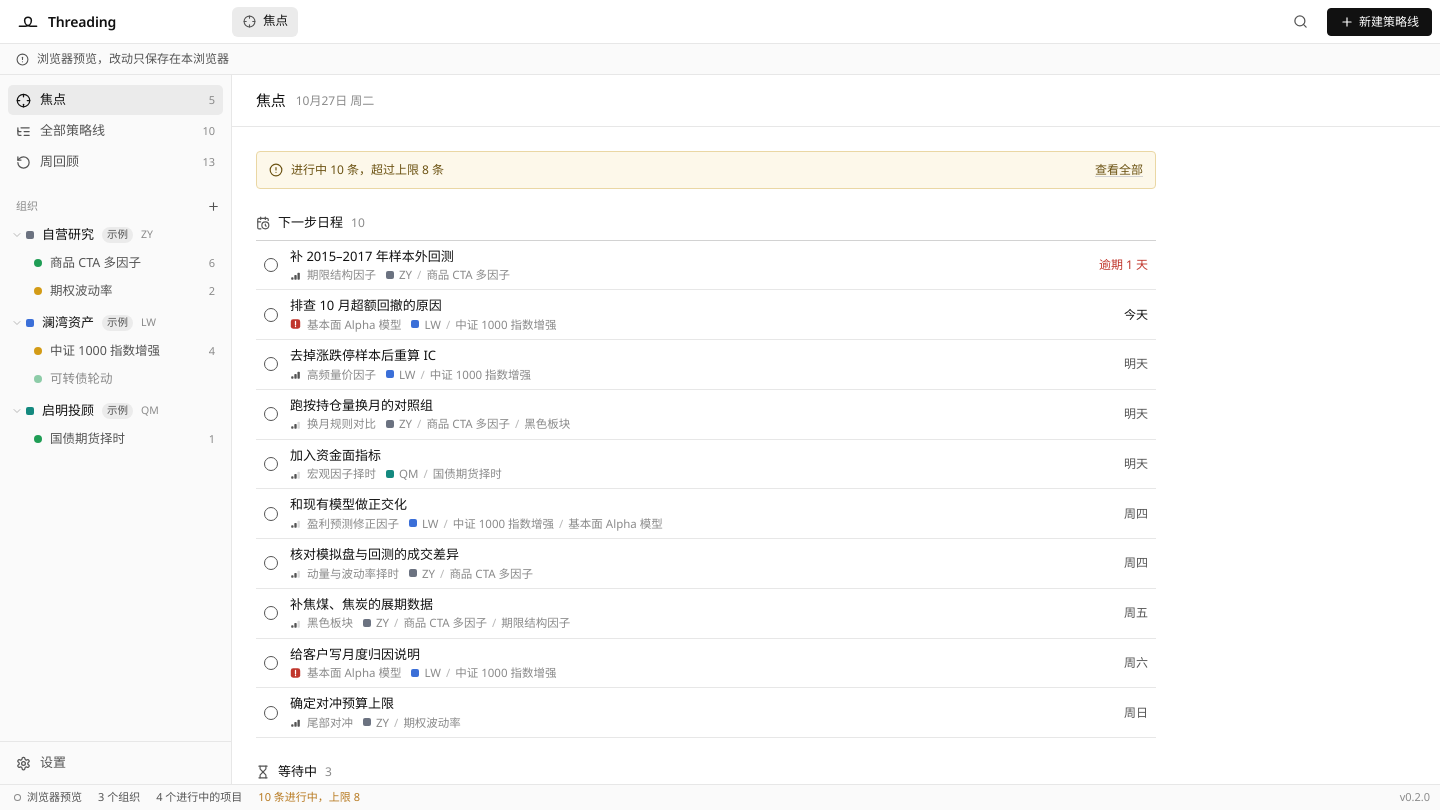
Threading › creates a thread from the keyboard and opens it
Expected: the heading "焦点" is shown, [256,89,286,112]
Type keys "n"
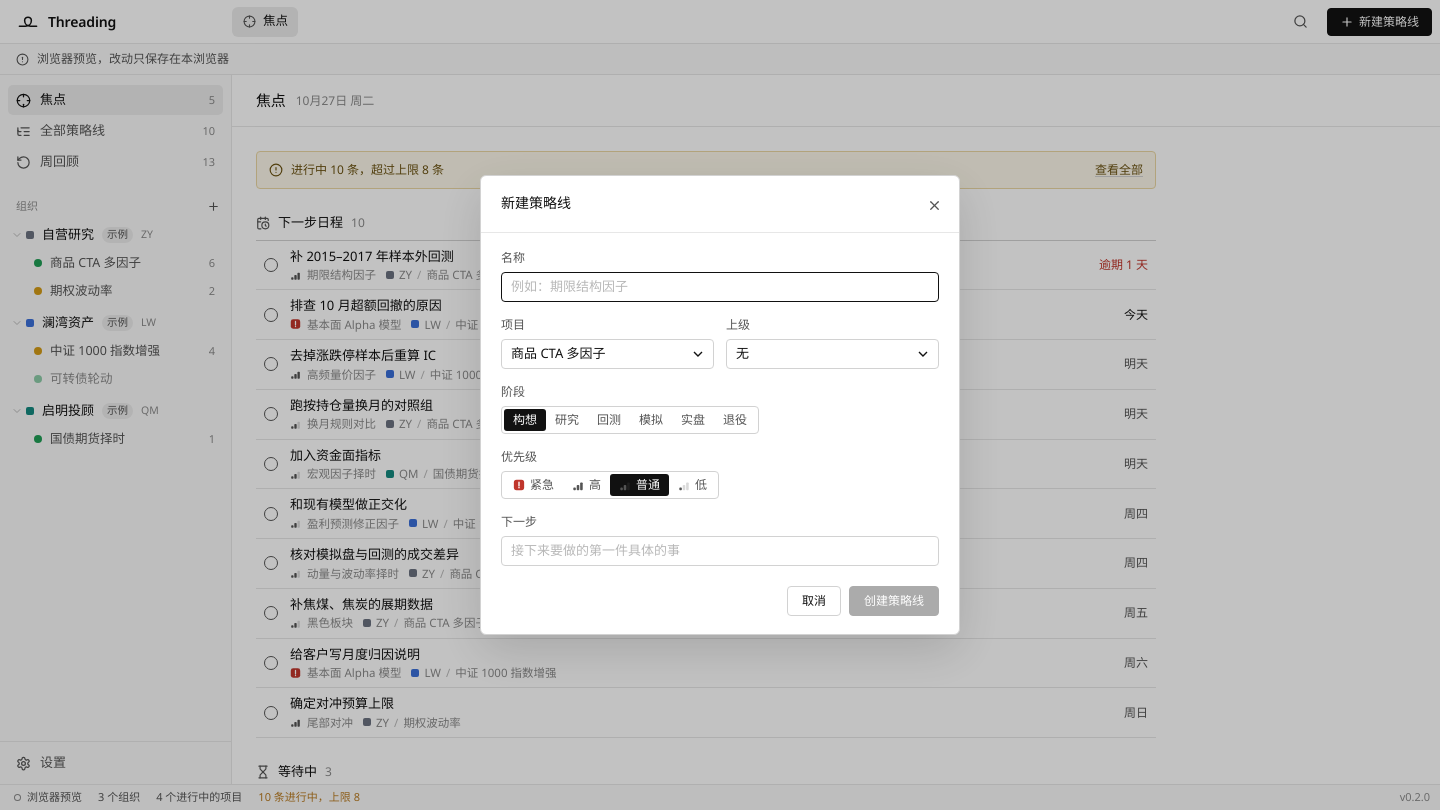
Type "偏度因子" into the field with placeholder "例如：期限结构因子" at x=720, y=287, box [501,272,939,302]
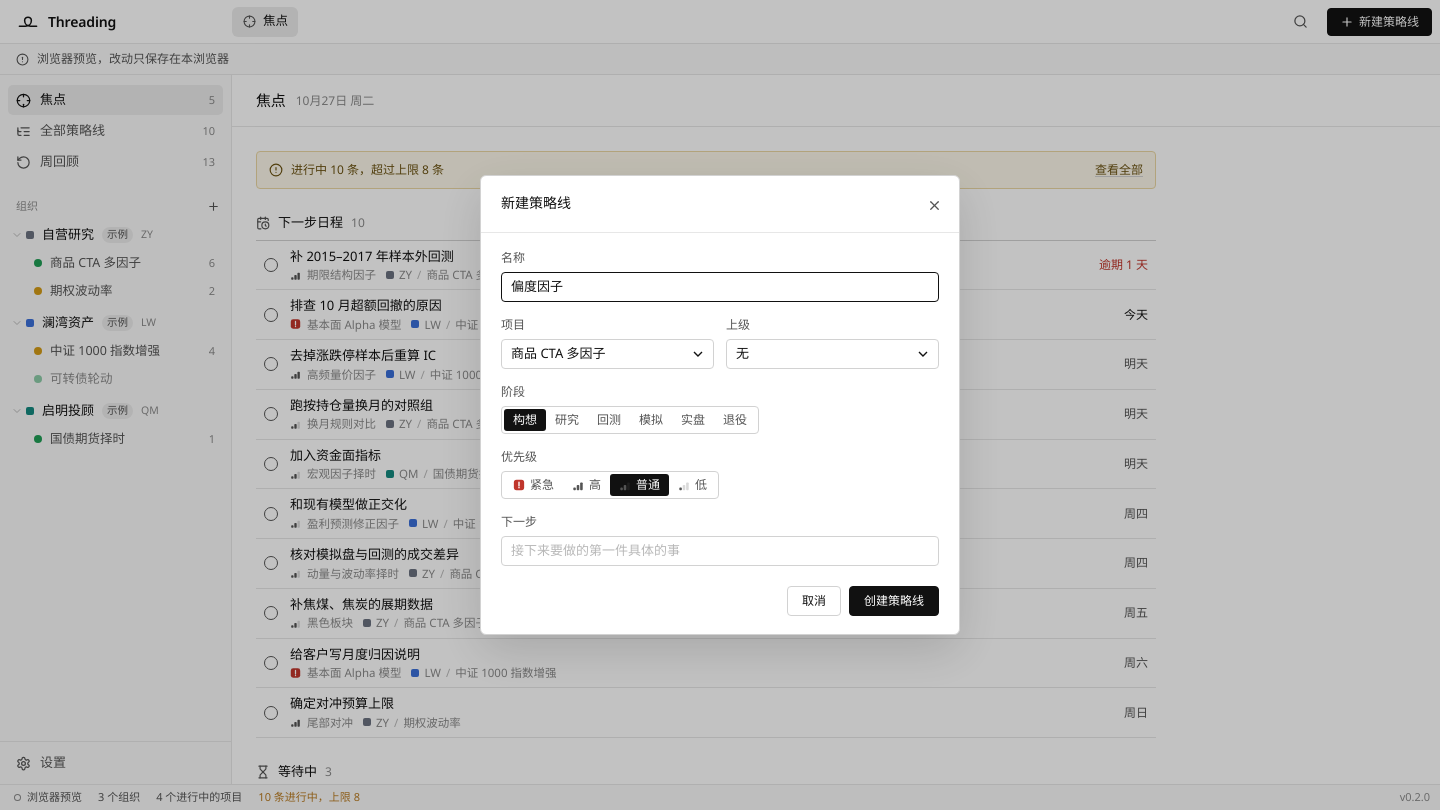
Select "期权波动率" in the dropdown labelled "项目" at x=608, y=354, box [501,339,714,369]
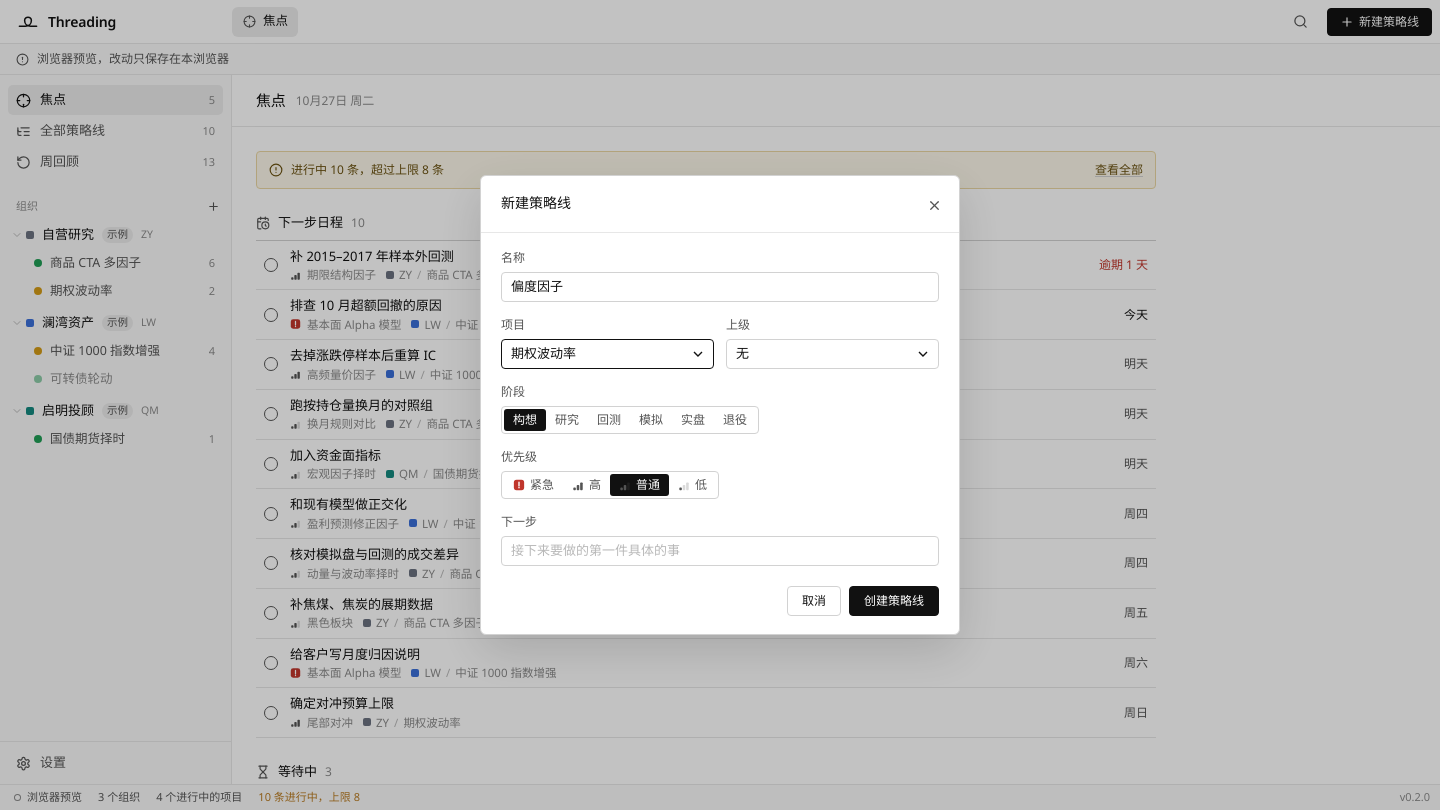
Click the radio button labelled "研究" at x=567, y=420, box [546,409,588,431]
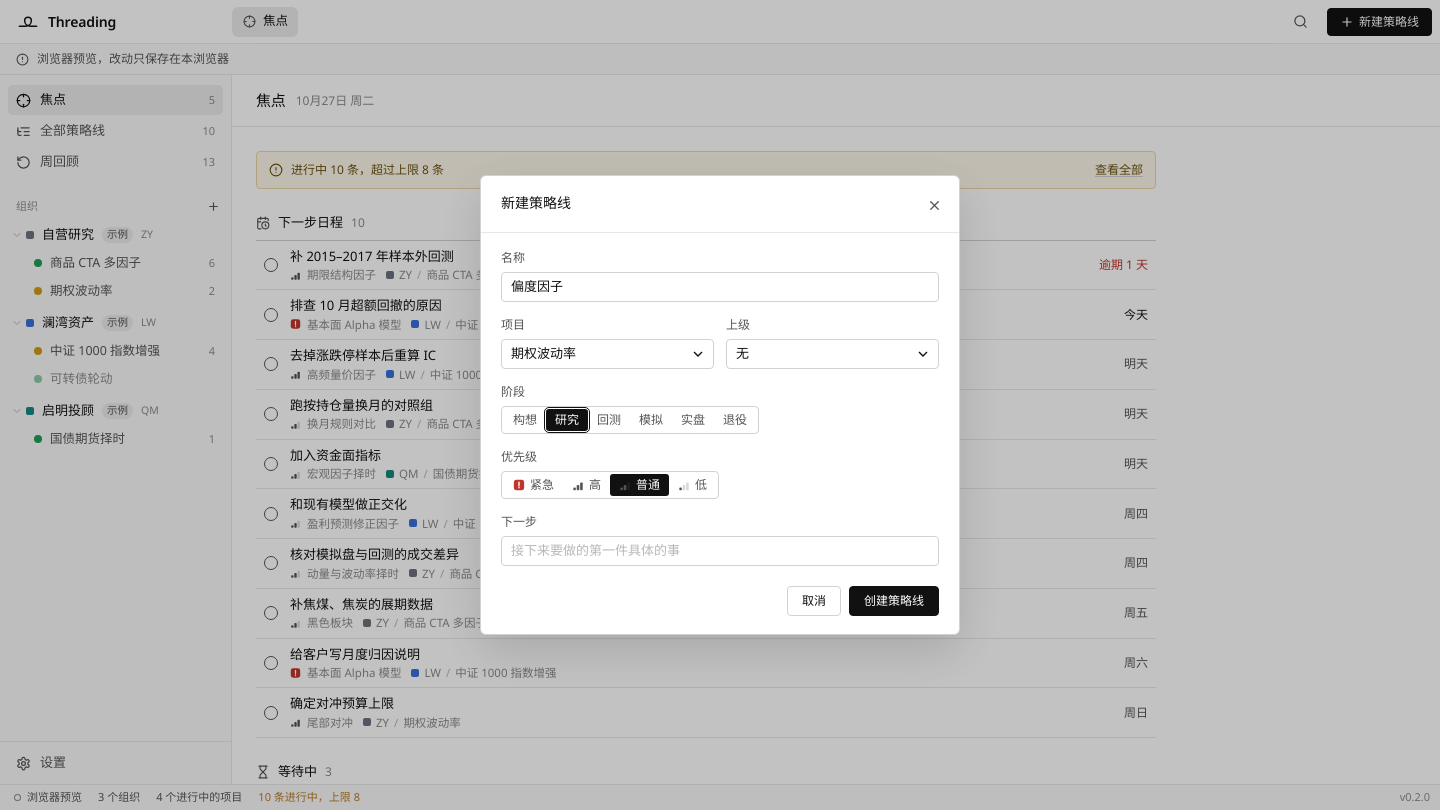
Type "拉取期权链" into the field with placeholder "接下来要做的第一件具体的事" at x=720, y=551, box [501,536,939,566]
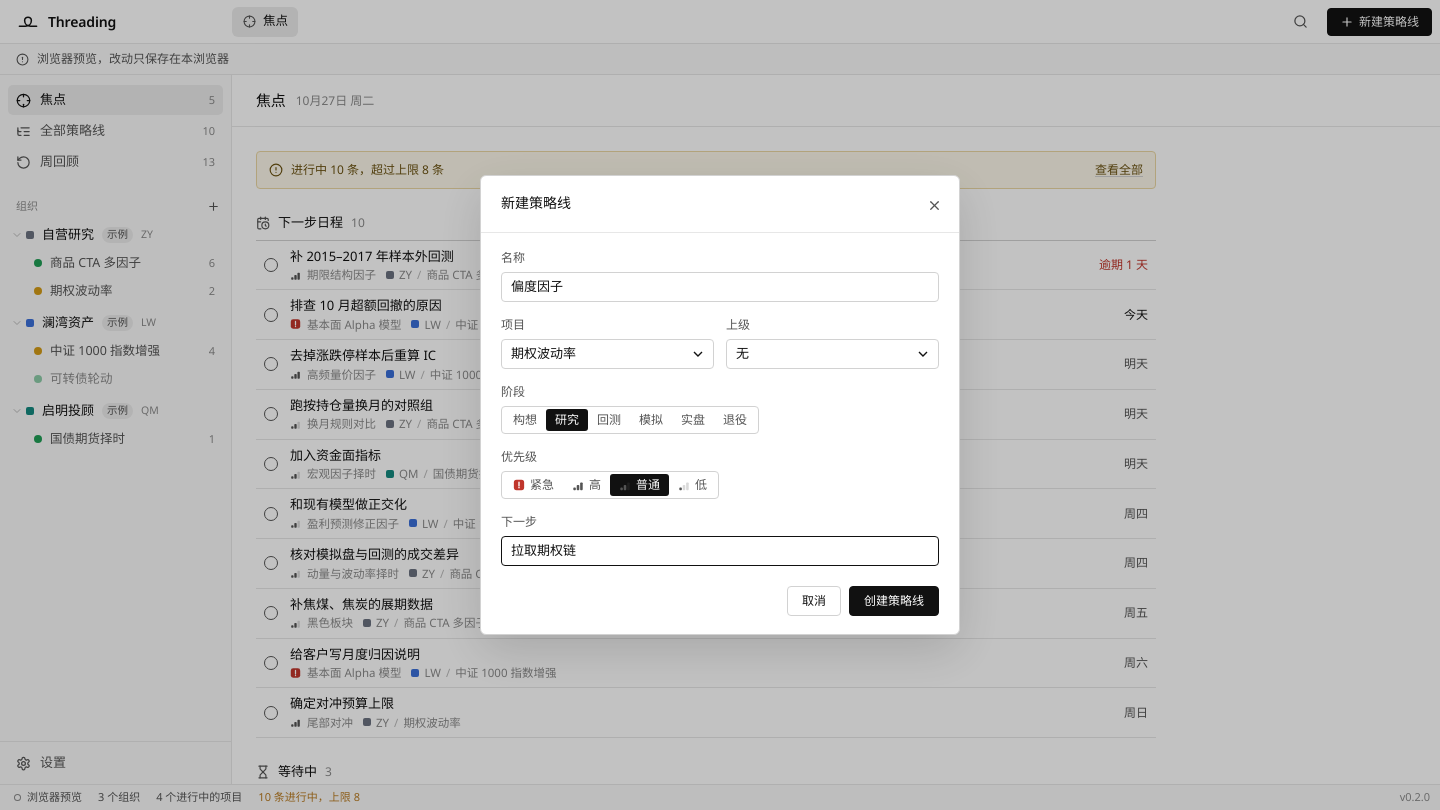
Click the button "创建策略线" at x=894, y=601, box [849,586,939,616]
(page scrolled)
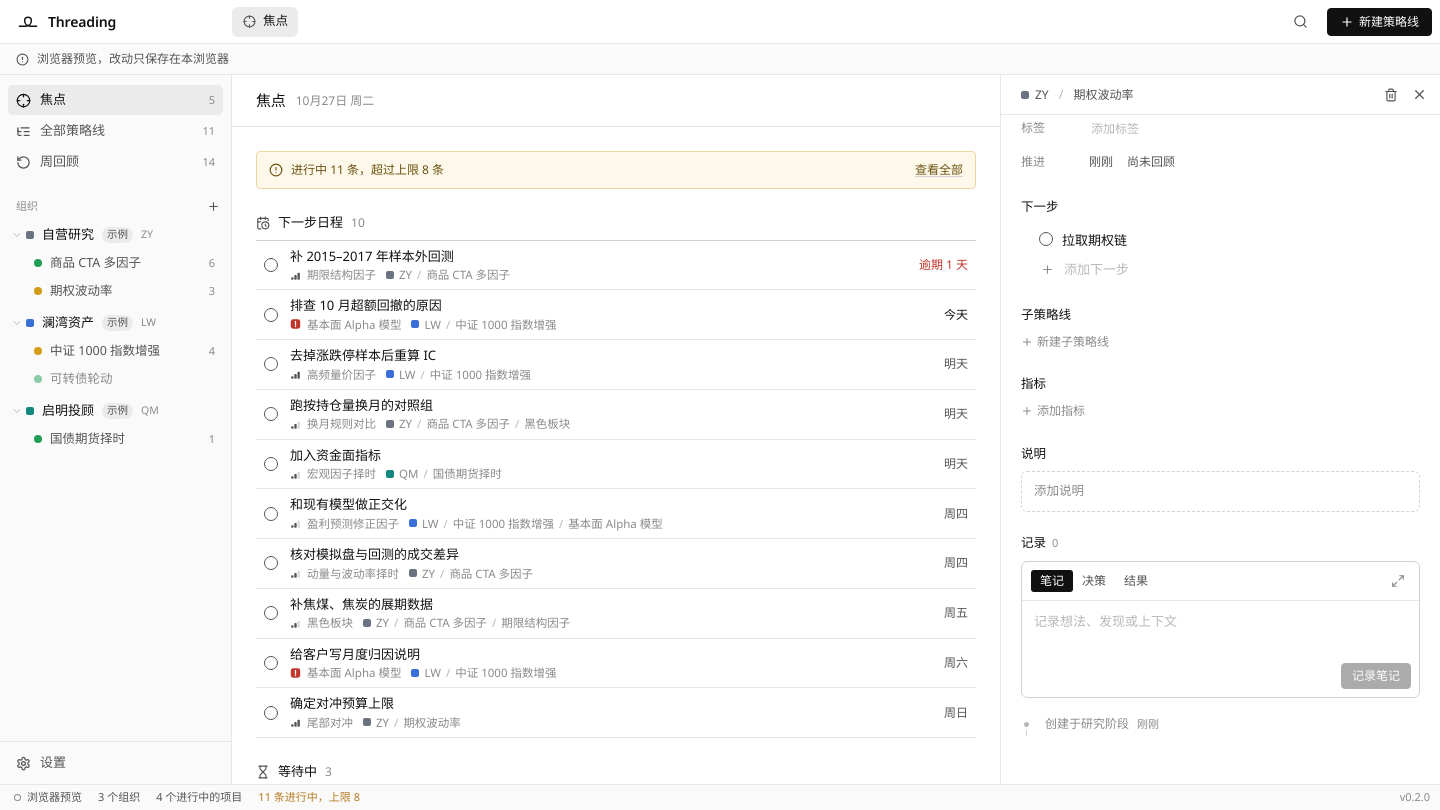
Result: the text box named "待办内容" holds "拉取期权链" at [1055,228,1370,251]
Result: the text "创建于研究阶段" is shown at [1045,715,1129,733]
